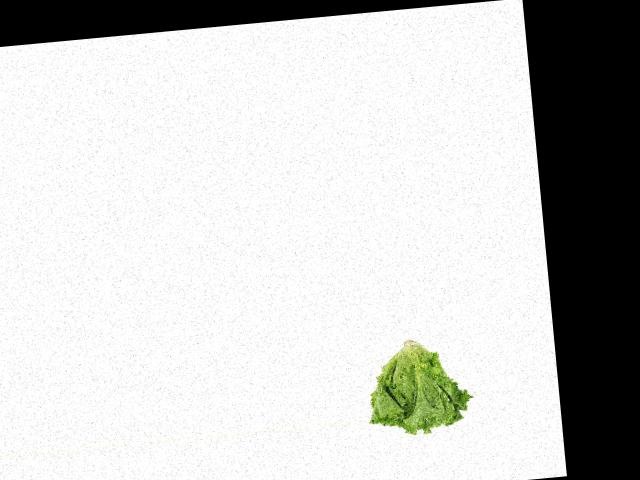lettuce: (360, 332, 471, 443)
